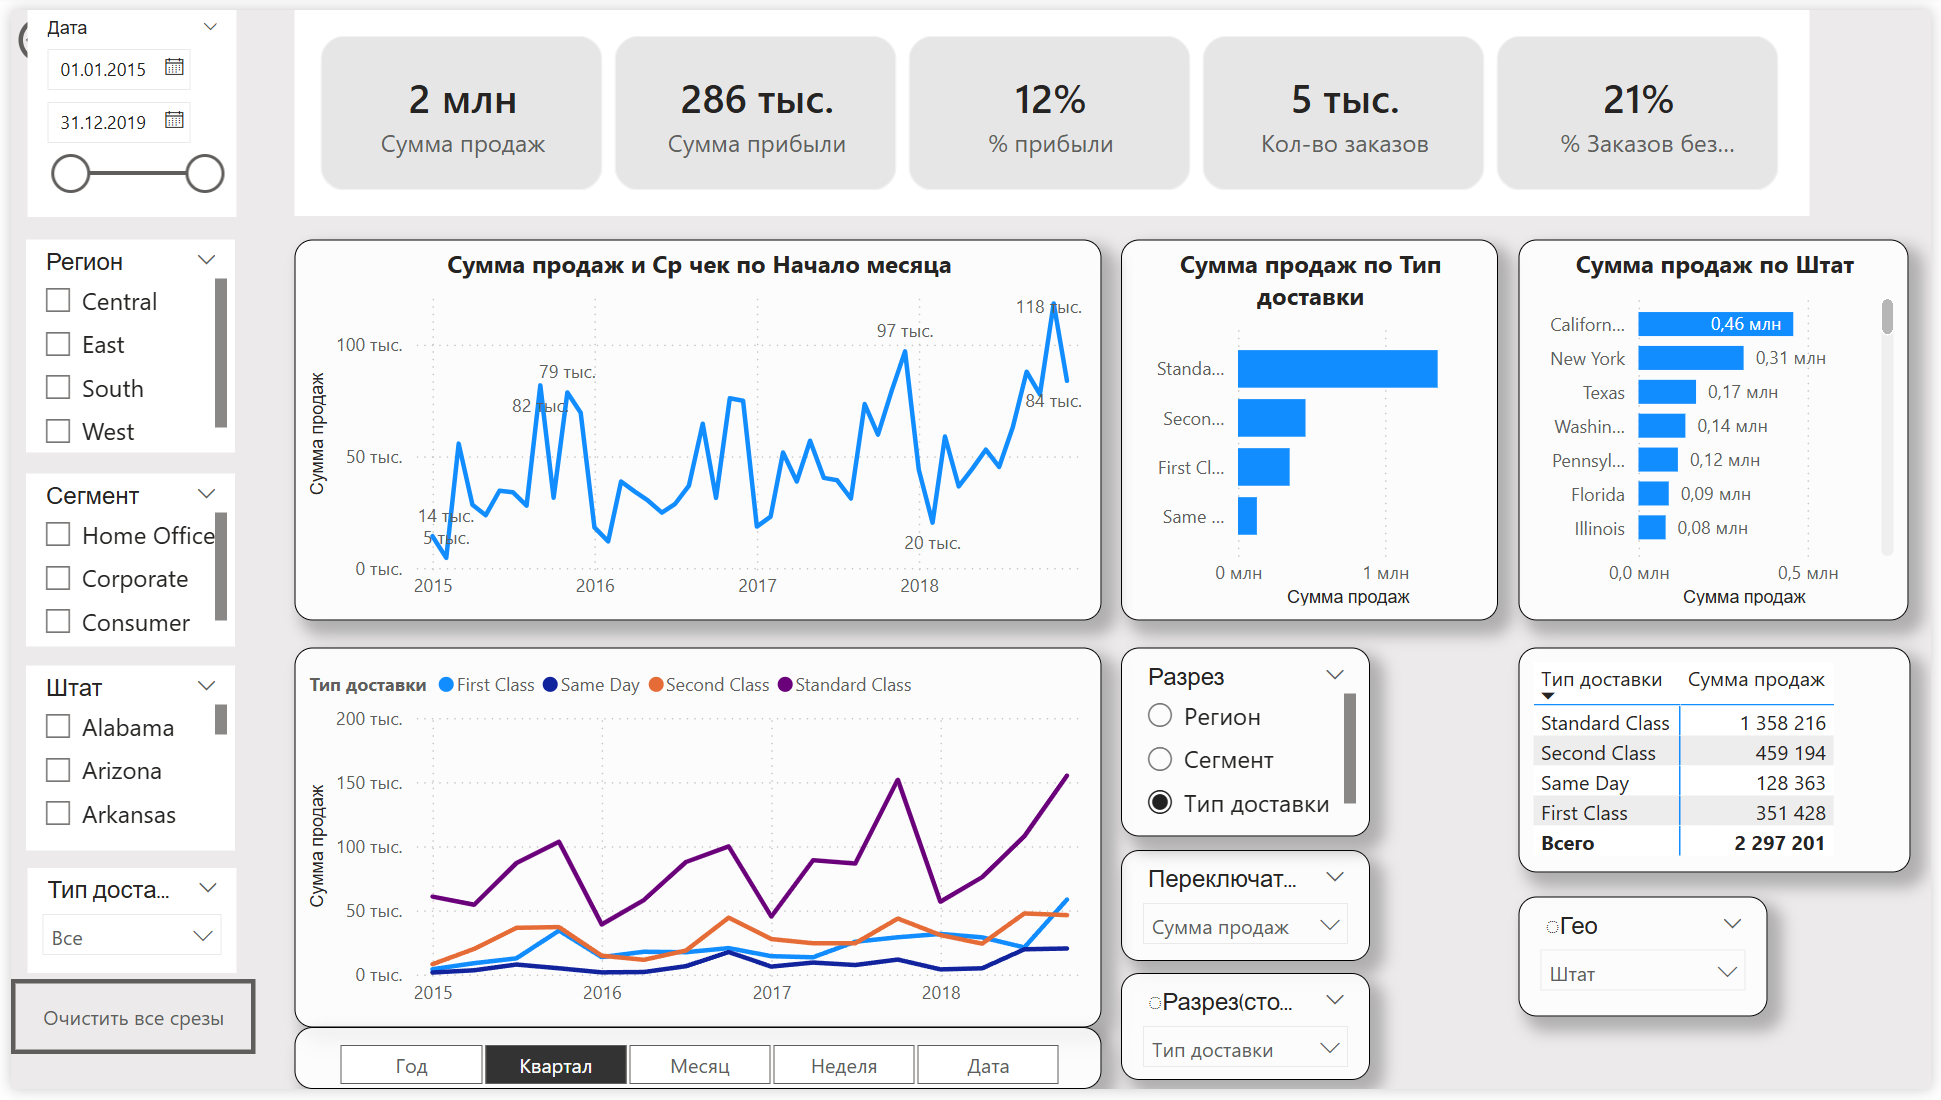

The dashboard page shown, as its layout file describes it:
{"tool":"powerbi","page":{"name":"динамика продаж","canvas":[1280,719],"ordinal":2},"visuals":[{"type":"cardVisual","fields":{"Data":["dox.Сумма продаж","dox.Сумма прибыли","dox.% прибыли","dox.Кол-во заказов","dox.% без прибыли"]},"box":[188.9,0,1010.4,136.7],"z":0},{"type":"clusteredBarChart","fields":{"Y":["DAX.Сумма продаж"],"Category":["Продажи.Тип доставки"]},"box":[740.4,153,250.3,253.8],"z":1000},{"type":"slicer","fields":{"Values":["Продажи.Регион"]},"box":[10.4,153,139,142.5],"z":2000},{"type":"slicer","fields":{"Values":["Продажи.Сегмент"]},"box":[10.4,309.4,139,114.7],"z":3000},{"type":"slicer","fields":{"Values":["Продажи.Тип доставки"]},"box":[10.8,571.8,138.8,70.6],"z":4000},{"type":"slicer","fields":{"Values":["Продажи.Штат"]},"box":[10.4,436.8,139,122.8],"z":5000},{"type":"clusteredBarChart","fields":{"Category":["Продажи.Штат"],"Y":["DAX.Сумма продаж"]},"box":[1004.6,153,260.7,253.8],"z":6000},{"type":"actionButton","box":[0,0,100,40],"z":7000},{"type":"slicer","fields":{"Values":["яКалендарь.Дата"]},"box":[10.8,0,138.8,137.6],"z":8000},{"type":"lineChart","fields":{"Y":["DAX.Сумма продаж"],"Category":["яКалендарь.Начало месяца"]},"box":[189,153.1,538.3,253.6],"z":9000},{"type":"slicer","fields":{"Values":["Переключатель формул.Переключатель формул"]},"box":[740.5,559.9,165.1,74.2],"z":10000},{"type":"lineChart","fields":{"Category":["яКалендарь.Начало квартала"],"Y":["DAX.Сумма продаж"],"Series":["Продажи.Тип доставки"]},"box":[189,424.7,538.3,253.6],"z":11000},{"type":"slicer","fields":{"Values":["Разрез.Разрез"]},"box":[740.5,424.7,165.1,126.8],"z":12000},{"type":"slicer","fields":{"Values":["Время.Время"]},"box":[189,678.3,538.3,40.7],"z":13000},{"type":"pivotTable","fields":{"Rows":["Продажи.Тип доставки"],"Values":["DAX.Сумма продаж"],"Columns":["Продажи.Тип доставки"]},"box":[1004.9,424.7,260.8,150.7],"z":14000},{"type":"slicer","fields":{"Values":["◌Разрез(столбцы).◌Разрез(столбцы)"]},"box":[740.5,642.4,165.1,70.6],"z":15000},{"type":"slicer","fields":{"Values":["◌Гео.◌Гео"]},"box":[1004.9,591,166.3,80.1],"z":16000},{"type":"actionButton","box":[0,646,162.7,50.2],"z":17000}]}

Visuals, with their boxes in screenshot pixels (x1, y1, x2, y2), scaled from the page's 1280x719 canvas onto the 1941x1100 screenshot:
cardVisual - dox.Сумма продаж x dox.Сумма прибыли: x1=286, y1=0, x2=1819, y2=209
clusteredBarChart - DAX.Сумма продаж x Продажи.Тип доставки: x1=1123, y1=234, x2=1502, y2=622
slicer - Продажи.Регион: x1=16, y1=234, x2=227, y2=452
slicer - Продажи.Сегмент: x1=16, y1=473, x2=227, y2=649
slicer - Продажи.Тип доставки: x1=16, y1=875, x2=227, y2=983
slicer - Продажи.Штат: x1=16, y1=668, x2=227, y2=856
clusteredBarChart - Продажи.Штат x DAX.Сумма продаж: x1=1523, y1=234, x2=1919, y2=622
actionButton: x1=0, y1=0, x2=152, y2=61
slicer - яКалендарь.Дата: x1=16, y1=0, x2=227, y2=211
lineChart - DAX.Сумма продаж x яКалендарь.Начало месяца: x1=287, y1=234, x2=1103, y2=622
slicer - Переключатель формул.Переключатель формул: x1=1123, y1=857, x2=1373, y2=970
lineChart - яКалендарь.Начало квартала x DAX.Сумма продаж: x1=287, y1=650, x2=1103, y2=1038
slicer - Разрез.Разрез: x1=1123, y1=650, x2=1373, y2=844
slicer - Время.Время: x1=287, y1=1038, x2=1103, y2=1099
pivotTable - Продажи.Тип доставки x DAX.Сумма продаж: x1=1524, y1=650, x2=1919, y2=880
slicer - ◌Разрез(столбцы).◌Разрез(столбцы): x1=1123, y1=983, x2=1373, y2=1091
slicer - ◌Гео.◌Гео: x1=1524, y1=904, x2=1776, y2=1027
actionButton: x1=0, y1=988, x2=247, y2=1065
